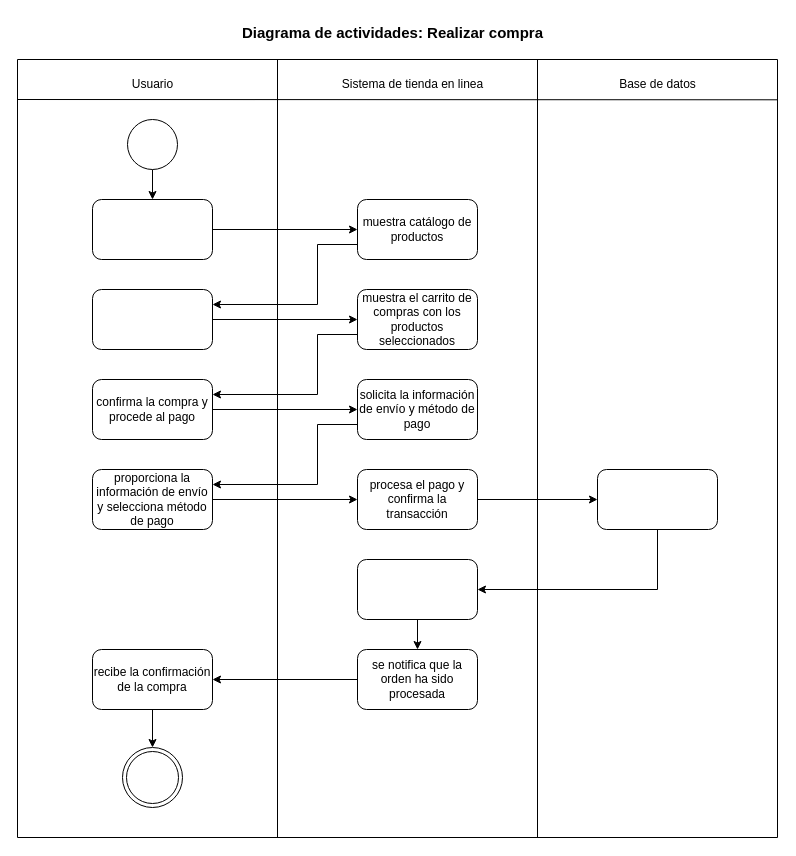
Some shapes in this 796 by 856 pixel diagram are drawn without their labels. Here are the shapes that lost their labels. From the top down, the centre of each, then its label:
At pixel 152 229: "iniciar seción".
At pixel 152 319: "selecciona producto(s) para comprar".
At pixel 657 499: "guarda la informacion del pago y el envío".
At pixel 417 589: "genera orden de compra y prepara el envío".
